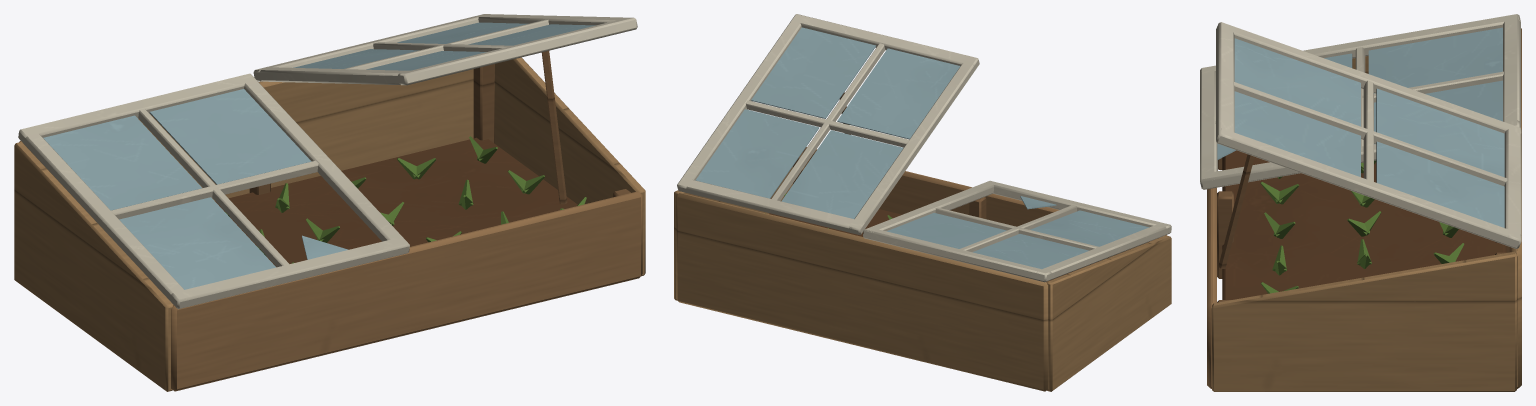
Rendered from cold_frame.glb.
3 views of the same model, side by side, from view 1: azimuth 30°, elevation 25°; view 2: azimuth 150°, elevation 25°; view 3: azimuth 270°, elevation 25° (orthographic). The views are drawn at different scales.
Visible parts, largest first — view 1: cold_frame; view 2: cold_frame; view 3: cold_frame.
Boxes of the visible parts, x1,y1,x2,y2 form: cold_frame: (14, 14, 645, 391); cold_frame: (674, 14, 1171, 391); cold_frame: (1200, 14, 1521, 391).
Bounding box in the file's own units: 1.63 × 0.8329 × 0.9505.
Materials: 8 (8 with a texture image).
